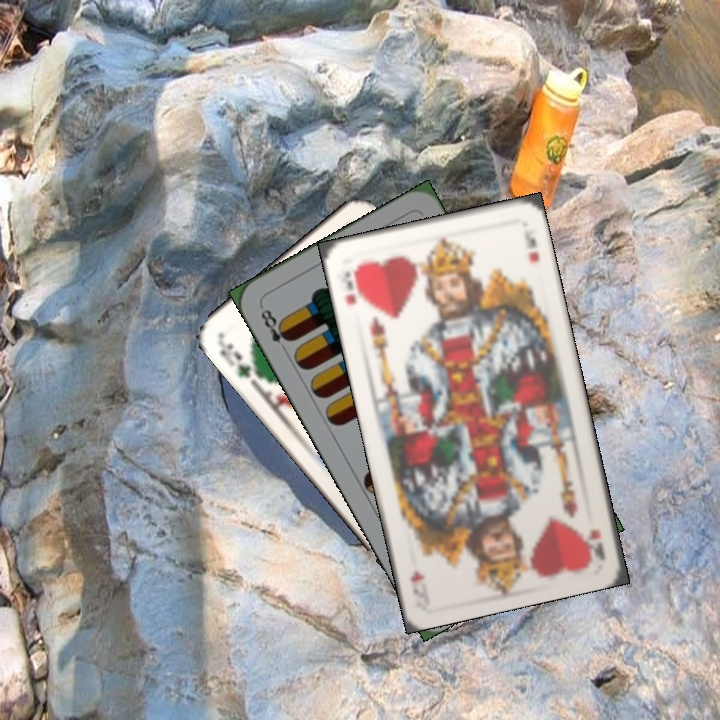E8: (256, 301, 295, 356)
GK: (215, 336, 266, 388)
HK: (341, 265, 366, 308), (582, 525, 608, 564)
